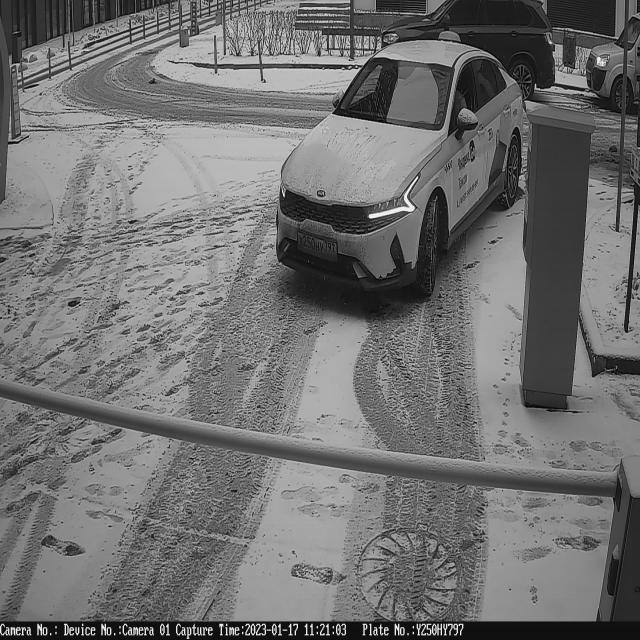car-plate-numbers: (295, 226, 342, 270)
